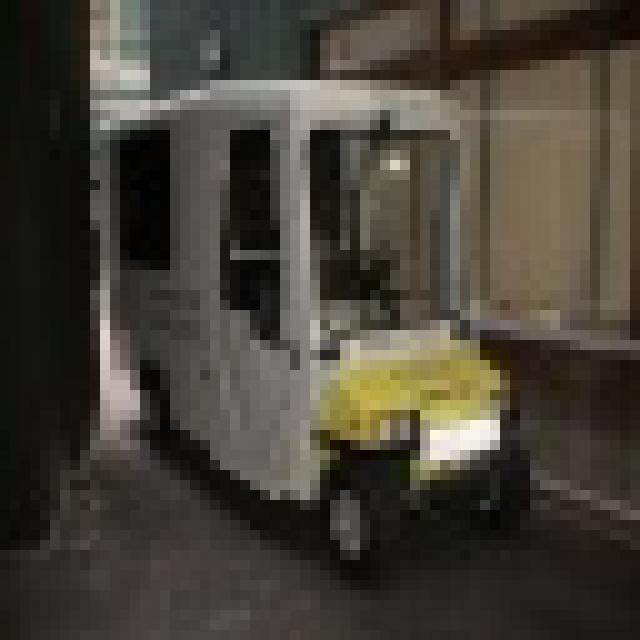Ambulance: (90, 70, 530, 560)
